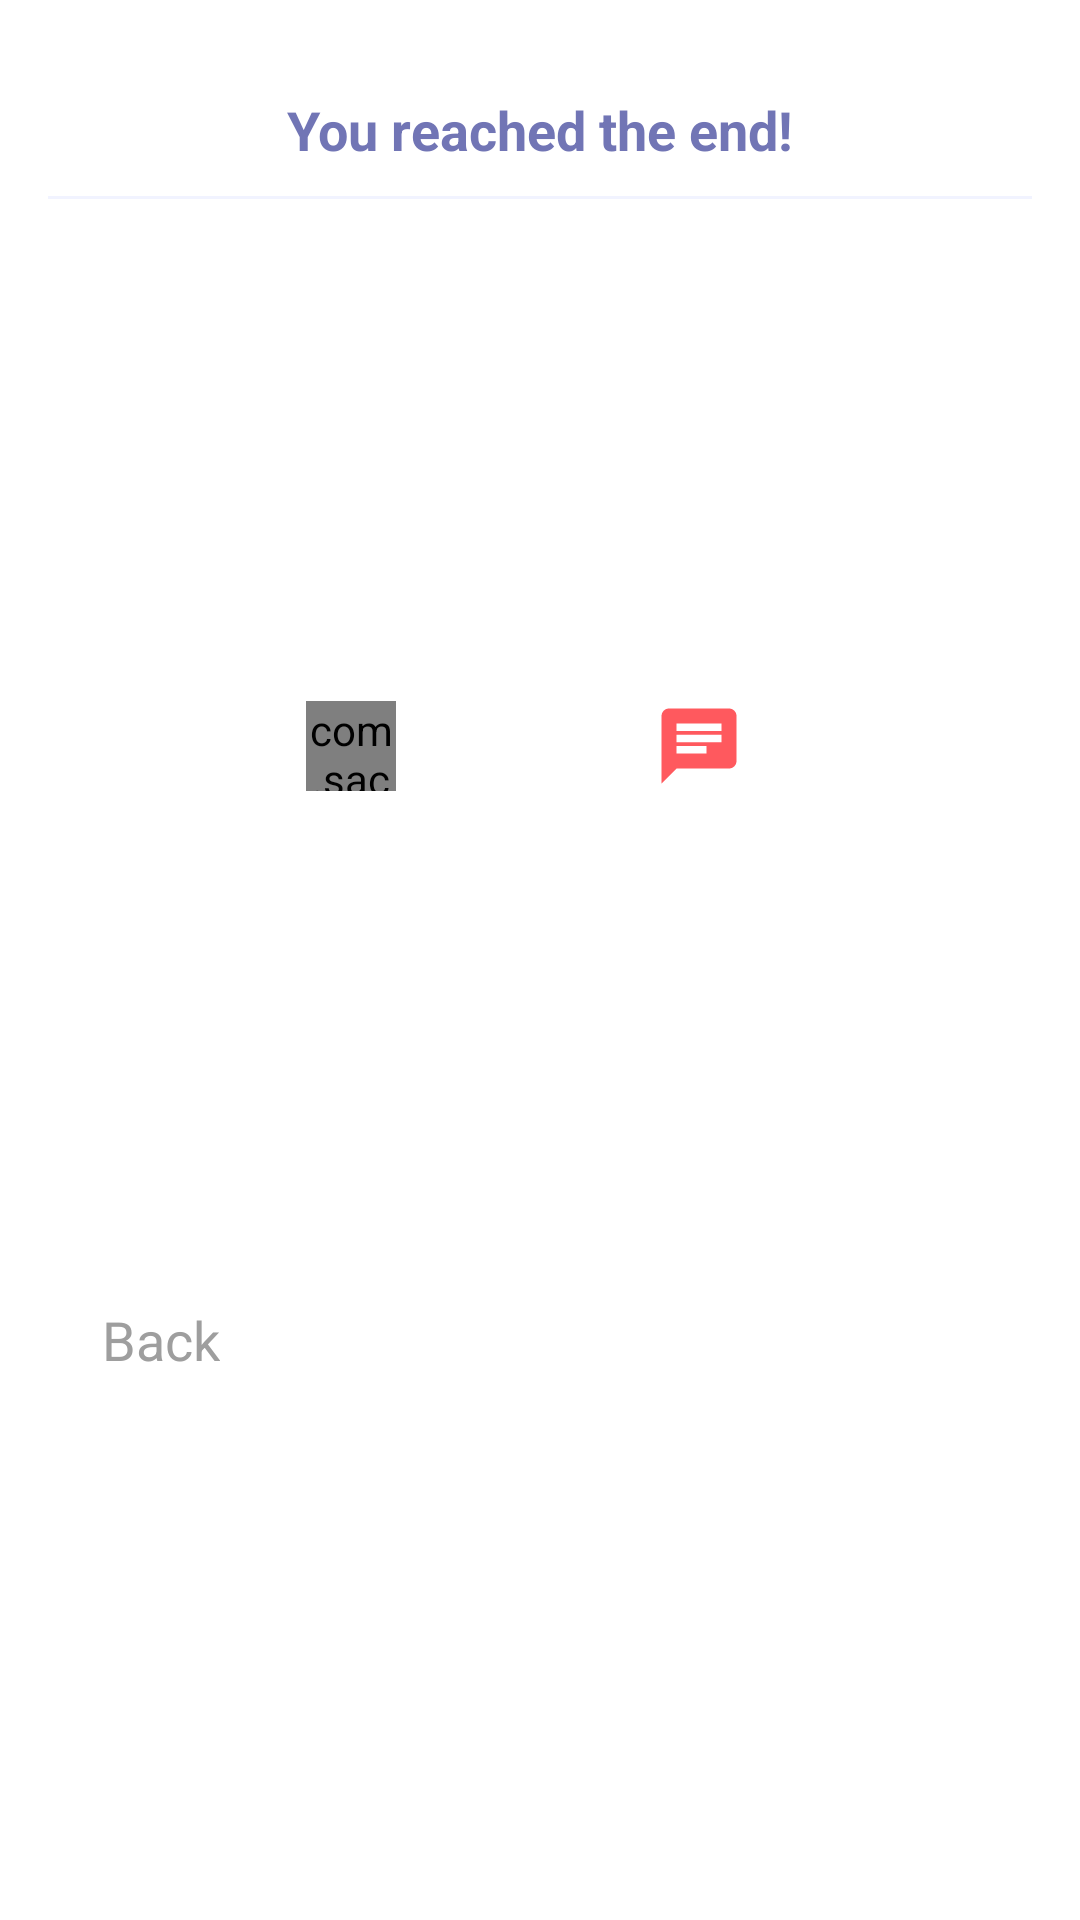

Named icons in this screenshot (1080w x 1920h) and their centers, (x,y):
comment: (699,746)
